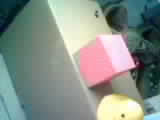duck: (96, 90, 138, 119)
